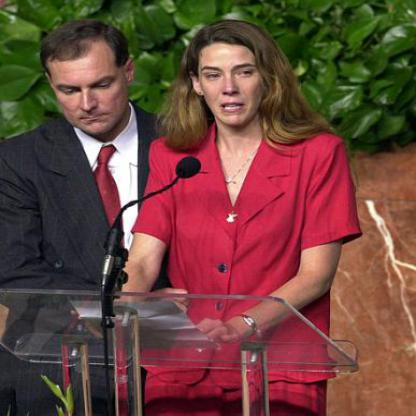face: (50, 25, 127, 137), (199, 23, 269, 128)
